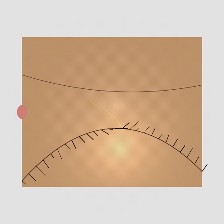corneal_ulcer: (83, 91, 140, 137)
